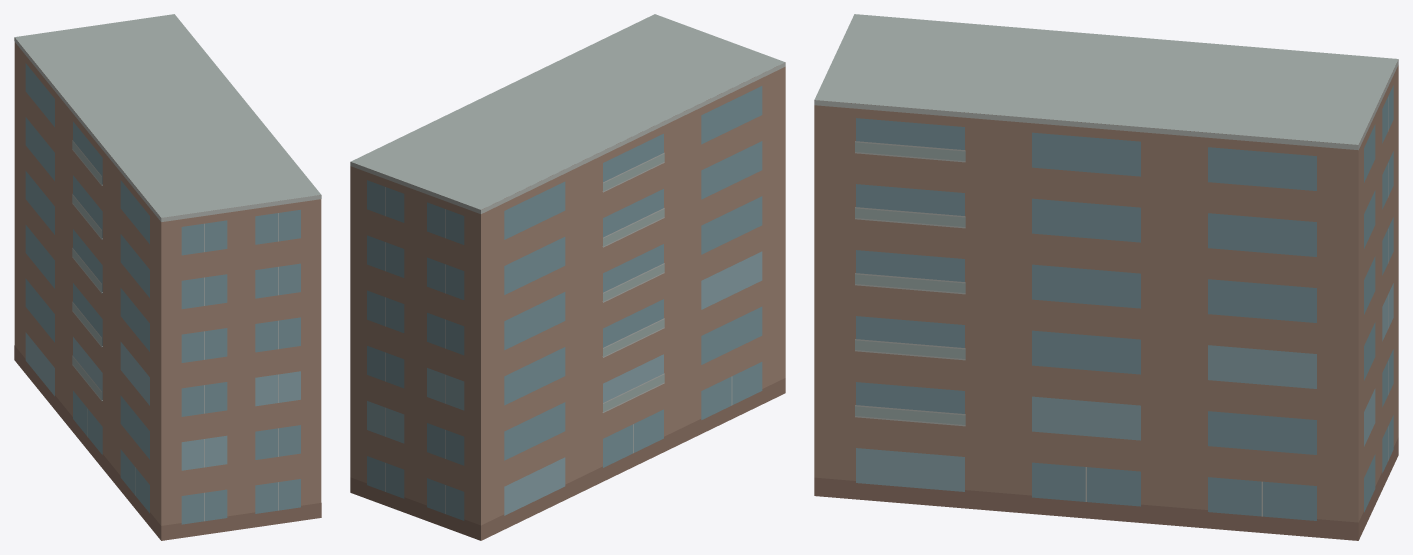
Rendered from survey-upis-32980922.glb.
The picture shows the model from 3 angles, left to right: view 1: azimuth 30°, elevation 25°; view 2: azimuth 150°, elevation 25°; view 3: azimuth 270°, elevation 25°; orthographic projection. The views are drawn at different scales.
Visible parts, largest first — view 1: survey-upis-32980922.tmp; view 2: survey-upis-32980922.tmp; view 3: survey-upis-32980922.tmp.
Part boxes in pixels (left/top/right/bottom): survey-upis-32980922.tmp: left=14, top=14, right=321, bottom=540; survey-upis-32980922.tmp: left=350, top=14, right=785, bottom=540; survey-upis-32980922.tmp: left=814, top=14, right=1398, bottom=540.
Size of the model in its own units: 13.13 by 18.5 by 24.76.
